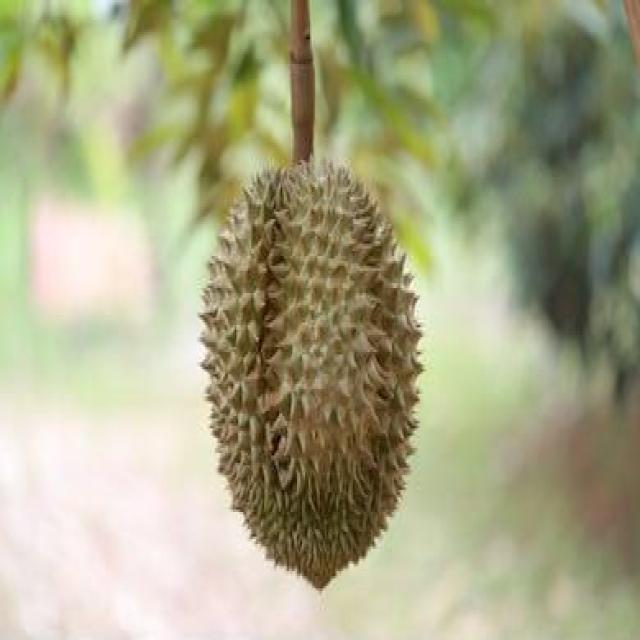mature: (201, 161, 421, 588)
